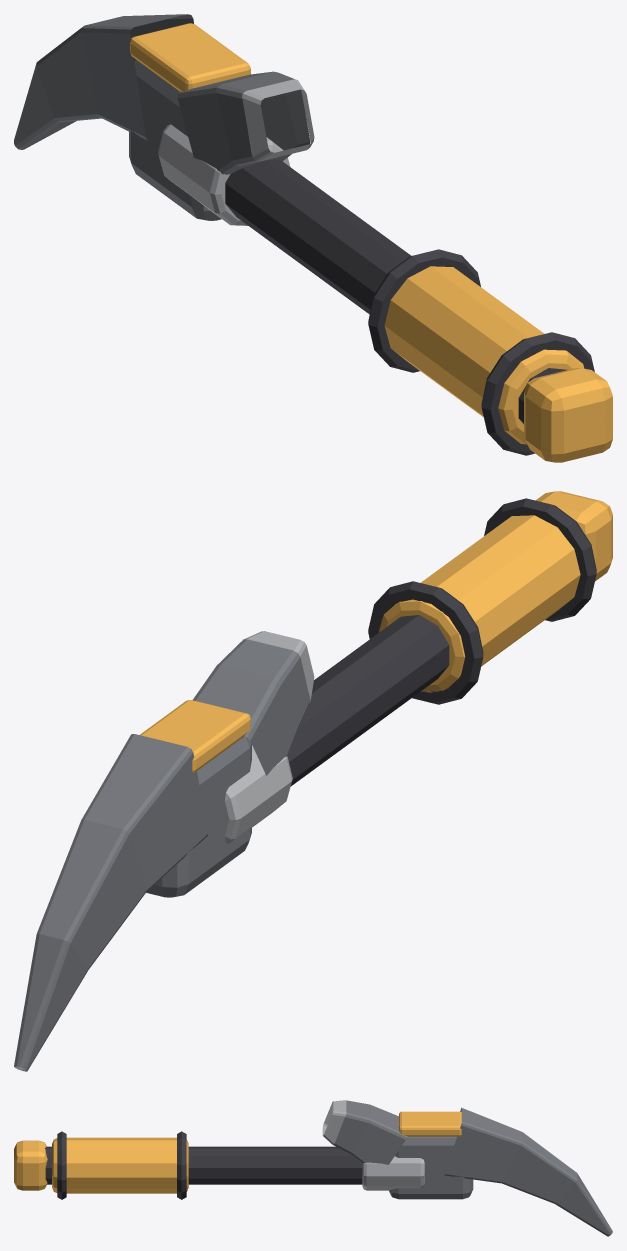
Rendered from WPN_Pickaxe_A_v1.fbx.
3 renders of one model, top to bottom at view 1: azimuth 30°, elevation 25°; view 2: azimuth 150°, elevation 25°; view 3: azimuth 270°, elevation 25°, orthographic. The views are drawn at different scales.
Parts seen in each view (by area): view 1: GEO_Pickaxe_A; view 2: GEO_Pickaxe_A; view 3: GEO_Pickaxe_A.
Part boxes in pixels (x1,y1,x2,y2): GEO_Pickaxe_A: (14,14,612,462); GEO_Pickaxe_A: (14,491,612,1071); GEO_Pickaxe_A: (14,1100,612,1236).
Bounding box in the file's own units: 9.5 × 19.4 × 81.07.
